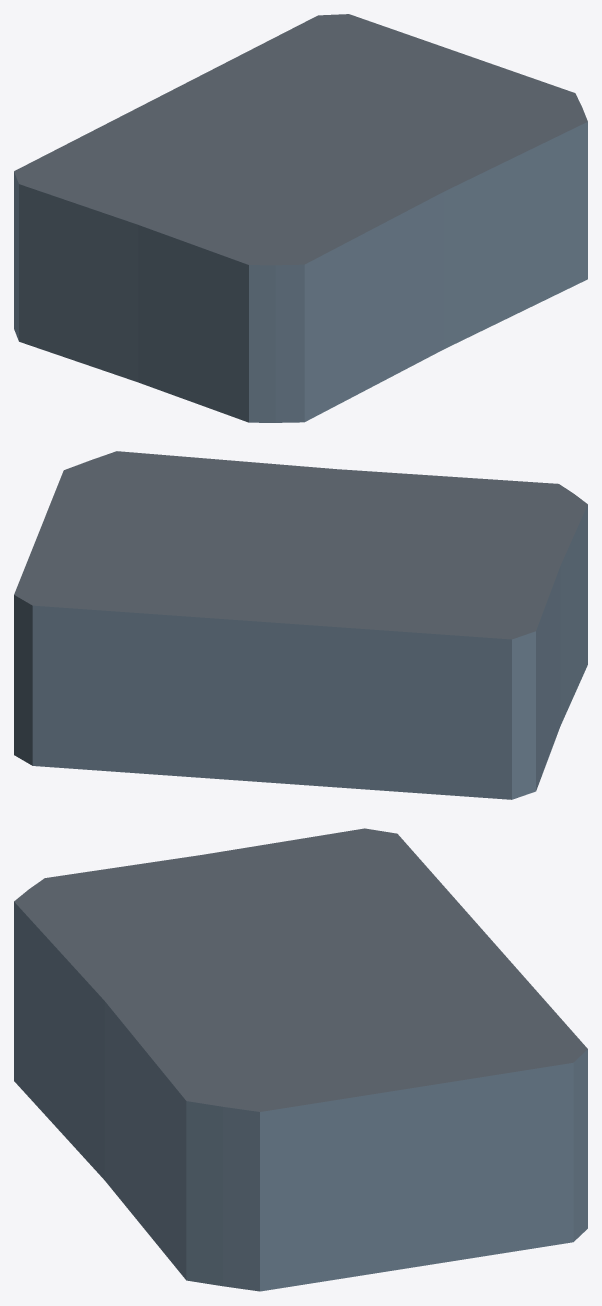
3 views of the same model, one above another, from view 1: azimuth 30°, elevation 25°; view 2: azimuth 150°, elevation 25°; view 3: azimuth 270°, elevation 25° (orthographic). The views are drawn at different scales.
Visible parts, largest first — view 1: HP-w378107236; view 2: HP-w378107236; view 3: HP-w378107236.
Part boxes in pixels (<box>): HP-w378107236: <box>14,14,587,422</box>; HP-w378107236: <box>14,451,587,799</box>; HP-w378107236: <box>14,828,587,1291</box>.
Size of the model in its own units: 152 by 45 by 130.
